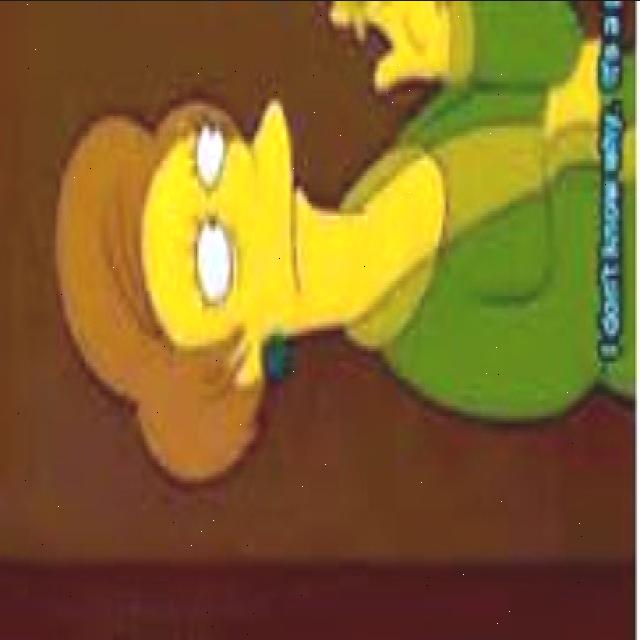Edna Krappel: (51, 85, 372, 490)
